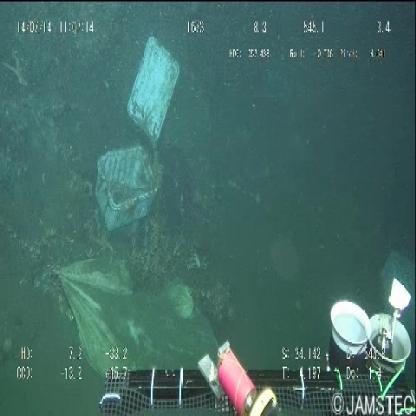Rov: (89, 277, 416, 416)
Rác: (88, 28, 181, 242)
